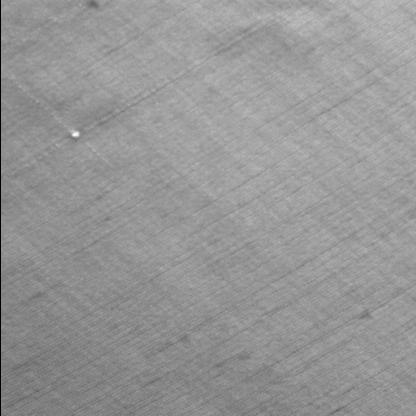hole: (68, 130, 82, 140)
